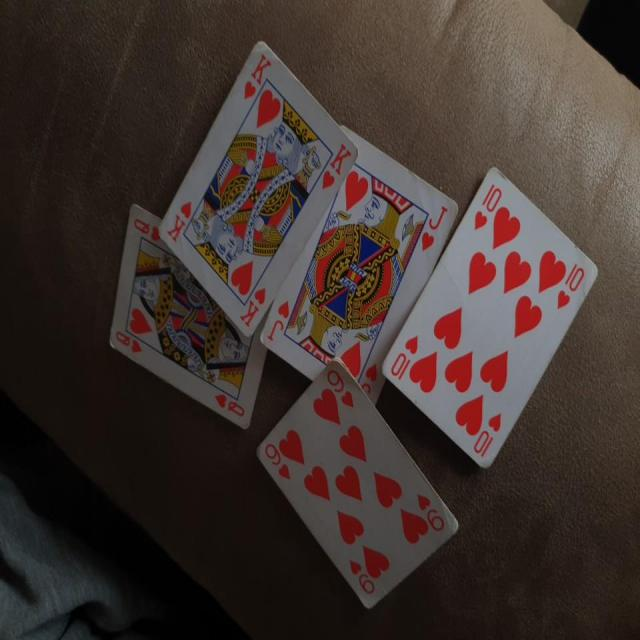10 Hearts: (381, 154, 604, 480)
9 Hearts: (259, 352, 462, 613)
J Hearts: (256, 115, 453, 396)
K Hearts: (154, 35, 359, 342)
Q Hearts: (98, 191, 272, 440)
